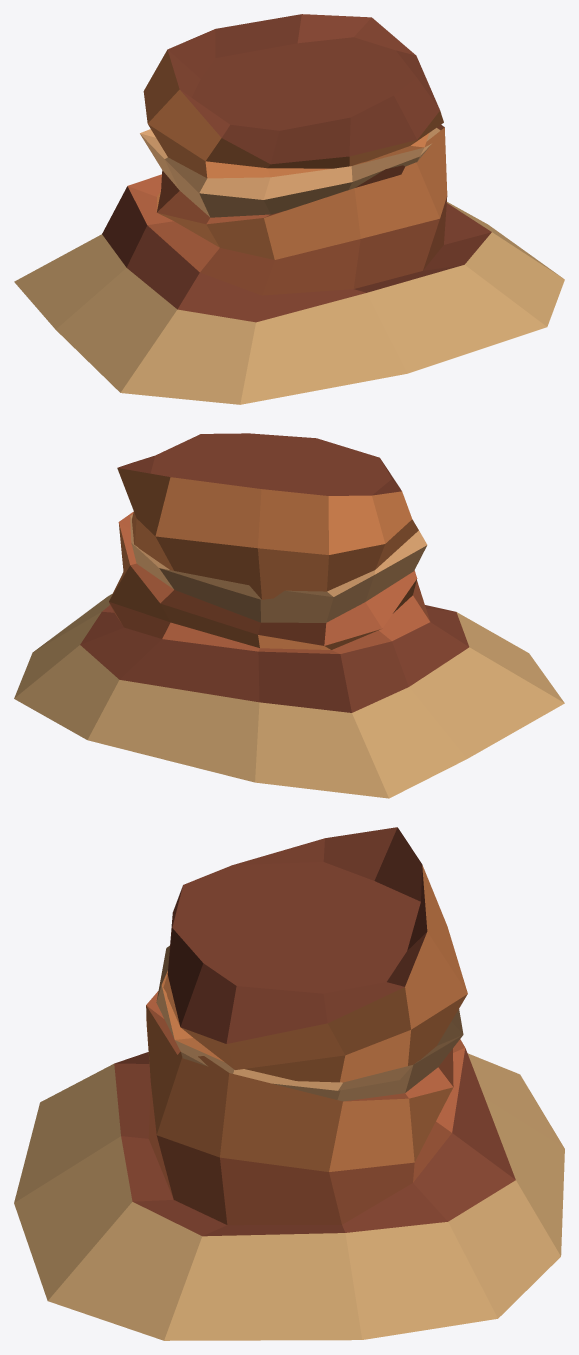
File: SM_Mesa_C.fbx
3 views of the same model, one above another, from view 1: azimuth 30°, elevation 25°; view 2: azimuth 150°, elevation 25°; view 3: azimuth 270°, elevation 25° (orthographic). The views are drawn at different scales.
Visible parts, largest first — view 1: Mesa_C; view 2: Mesa_C; view 3: Mesa_C.
Boxes of the visible parts, x1,y1,x2,y2 form: Mesa_C: [14, 14, 564, 404]; Mesa_C: [14, 433, 564, 798]; Mesa_C: [14, 827, 564, 1340].
Size of the model in its own units: 6191 by 5001 by 3163.
